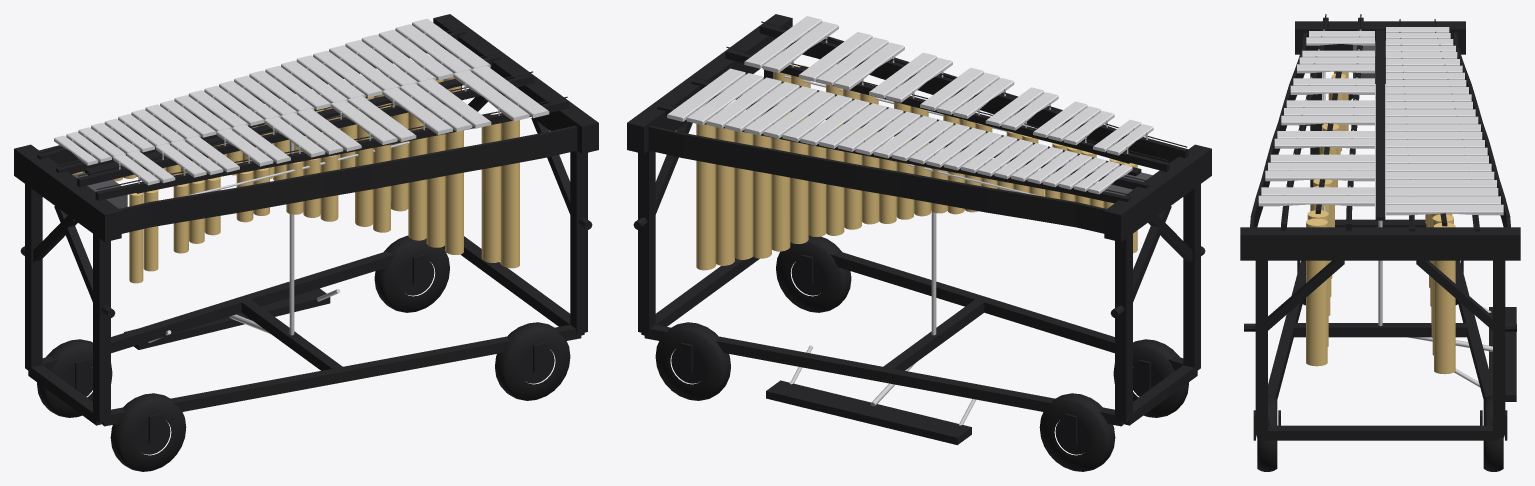
The model's file is vibraphone-3.5.glb.
3 views of the same model, side by side, from view 1: azimuth 30°, elevation 25°; view 2: azimuth 150°, elevation 25°; view 3: azimuth 270°, elevation 25° (orthographic). The views are drawn at different scales.
Parts seen in each view (by area): view 1: frame, bars-silver, resonators-gold, artwork, metal; view 2: frame, bars-silver, resonators-gold, metal; view 3: frame, bars-silver, resonators-gold, metal.
Boxes of the visible parts, box(x1,y1,x2,y2) form: frame: box(14, 14, 598, 471); bars-silver: box(54, 18, 549, 185); resonators-gold: box(72, 77, 519, 283); artwork: box(121, 127, 577, 233); metal: box(72, 32, 518, 342); frame: box(627, 14, 1211, 471); bars-silver: box(667, 16, 1153, 194); resonators-gold: box(696, 64, 1137, 270); metal: box(697, 30, 1147, 425); frame: box(1240, 14, 1520, 471); bars-silver: box(1258, 27, 1503, 215); resonators-gold: box(1306, 71, 1455, 374); metal: box(1283, 29, 1492, 387).
Bounding box in the file's own units: 1.65 × 0.9789 × 0.9144.
